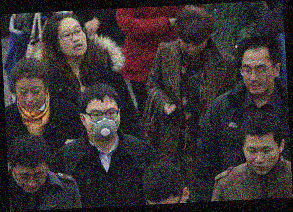with_mask: (85, 105, 122, 141)
without_mask: (241, 59, 275, 95), (244, 141, 279, 175), (58, 22, 89, 59), (11, 166, 50, 195), (16, 82, 47, 112), (180, 37, 206, 57)
